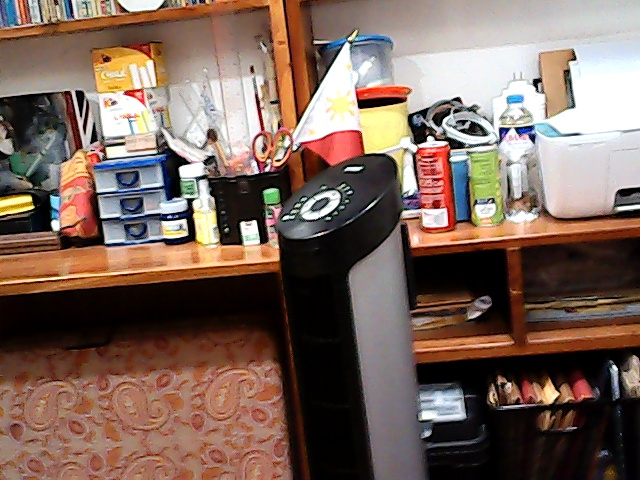Cola: (413, 141, 458, 234)
Pine Juice: (463, 141, 507, 234)
Summit Water: (504, 88, 541, 219)
